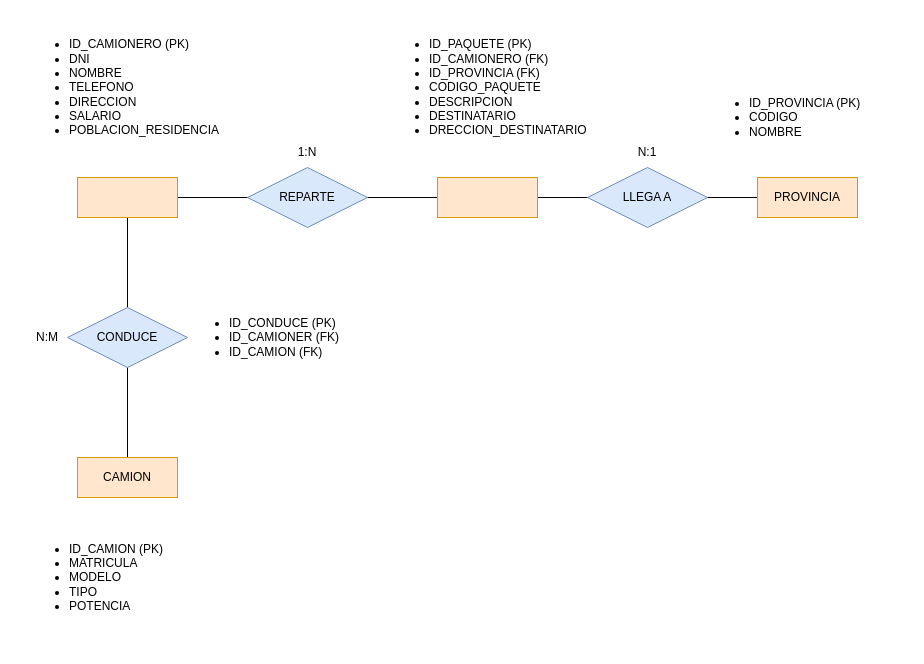
The diagram is 924 pixels wide and 664 high, and some of its shapes have lost their labels. Here are the shapes that lost their labels. From the top down, the centre of each, then its label:
At (127,197): "CAMIONERO".
At (487,197): "PAQUETE".
